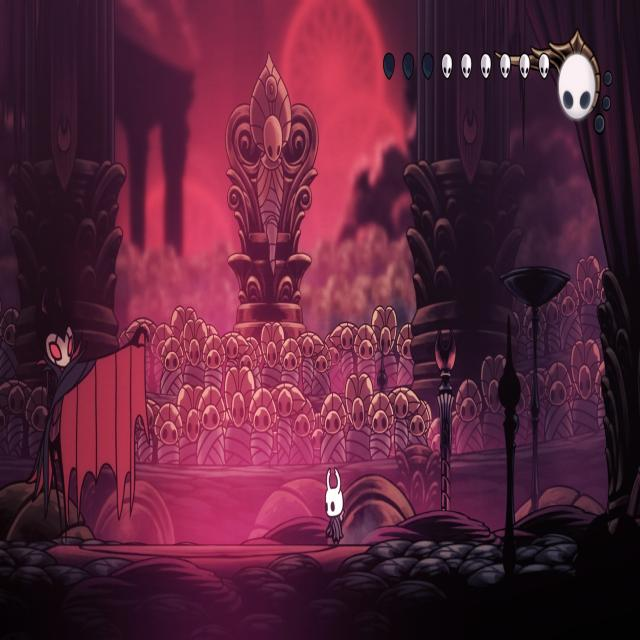Open Cloak: (22, 294, 152, 546)
Player: (322, 462, 348, 548)
